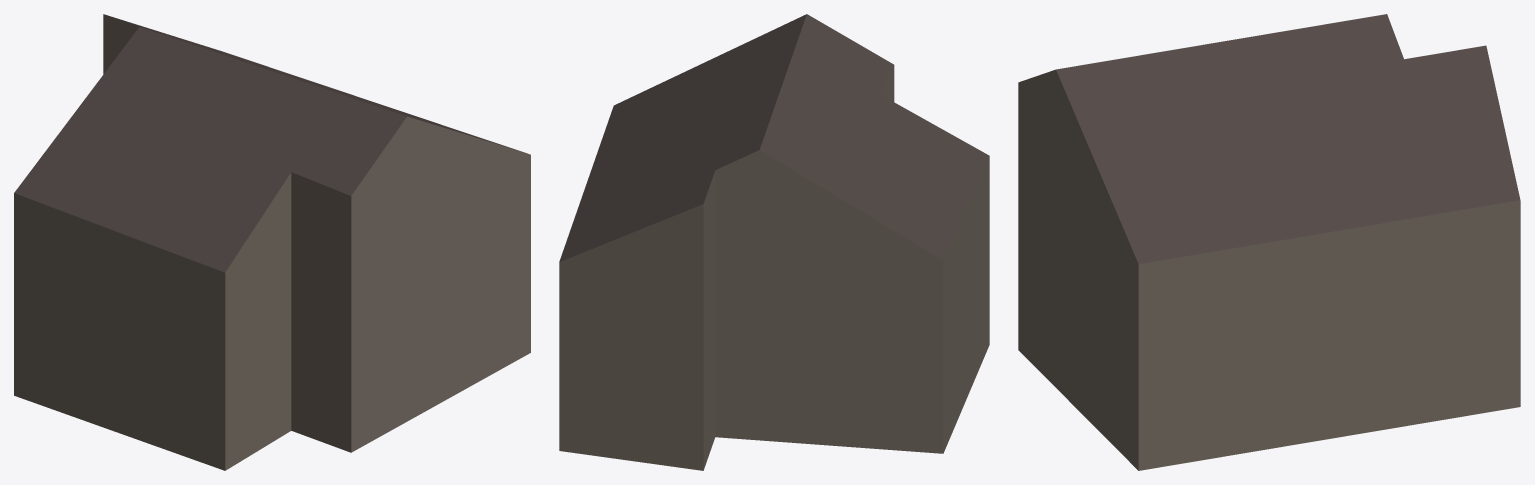
3 views of the same model, side by side, from view 1: azimuth 30°, elevation 25°; view 2: azimuth 150°, elevation 25°; view 3: azimuth 270°, elevation 25° (orthographic). The views are drawn at different scales.
Parts seen in each view (by area): view 1: HP-w1512468498; view 2: HP-w1512468498; view 3: HP-w1512468498.
Boxes of the visible parts, box(x1,y1,x2,y2) form: HP-w1512468498: box(14, 14, 530, 470); HP-w1512468498: box(559, 14, 989, 470); HP-w1512468498: box(1018, 14, 1520, 470).
Size of the model in its own units: 13.67 by 9.24 by 13.21.
